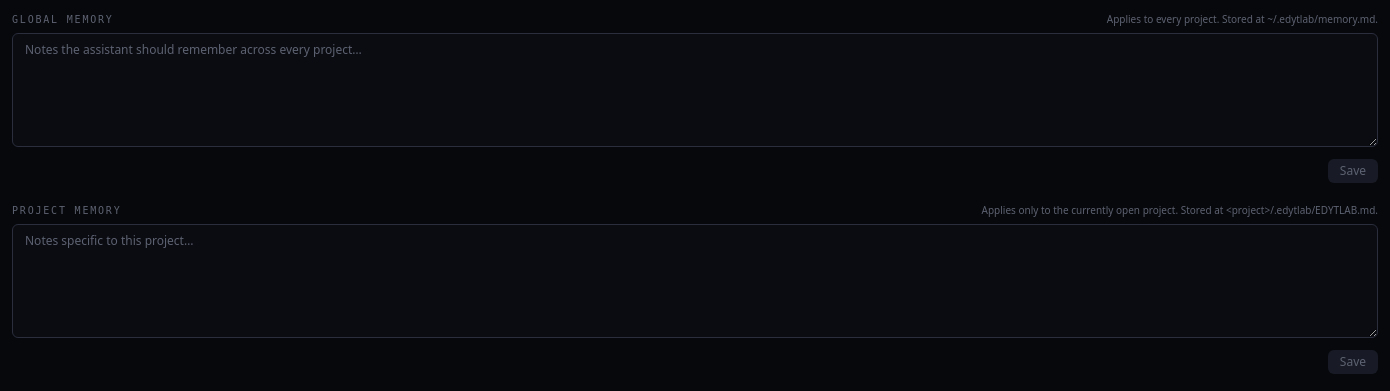
Test: MemoryEditor › disables Save until the textarea diverges, then writes on click
Expected: the button with test id "memory-save-global" is disabled, [1328,159,1378,183]
In the text box with test id "memory-textarea-global": (695, 90) [12,33,1378,147], type "hello"
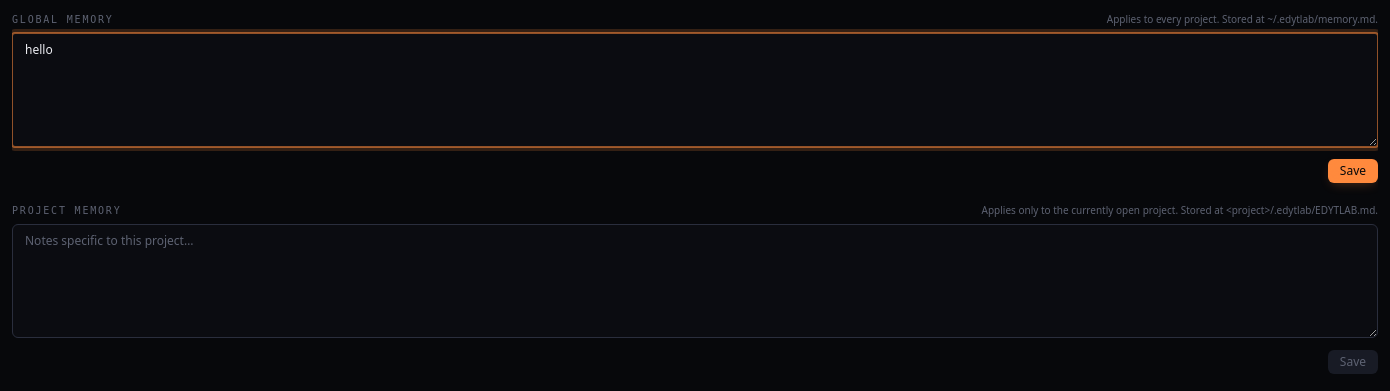
Now the button with test id "memory-save-global" is enabled
Click the button with test id "memory-save-global": click(1353, 171) [1328,159,1378,183]
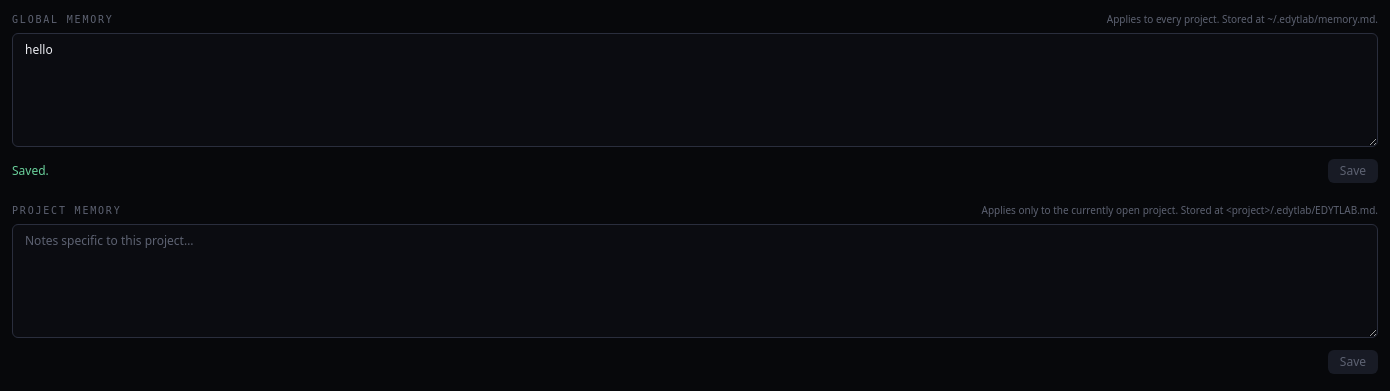
Now the button with test id "memory-save-global" is disabled, box [1328,159,1378,183]
Now the text with test id "memory-status-global" shows "Saved", box [12,162,49,179]
